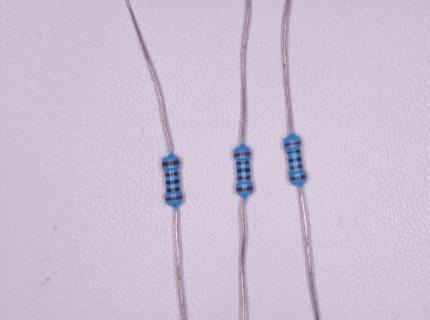Black band: (166, 179, 180, 185), (287, 149, 301, 154), (289, 157, 302, 162), (167, 187, 180, 192), (236, 161, 250, 165), (237, 168, 250, 172)
Brown band: (162, 160, 180, 167), (290, 174, 307, 181), (236, 186, 253, 191), (165, 172, 179, 177), (237, 175, 251, 180), (289, 164, 303, 169)
Red band: (165, 195, 183, 201), (284, 141, 301, 147), (233, 152, 251, 157)
